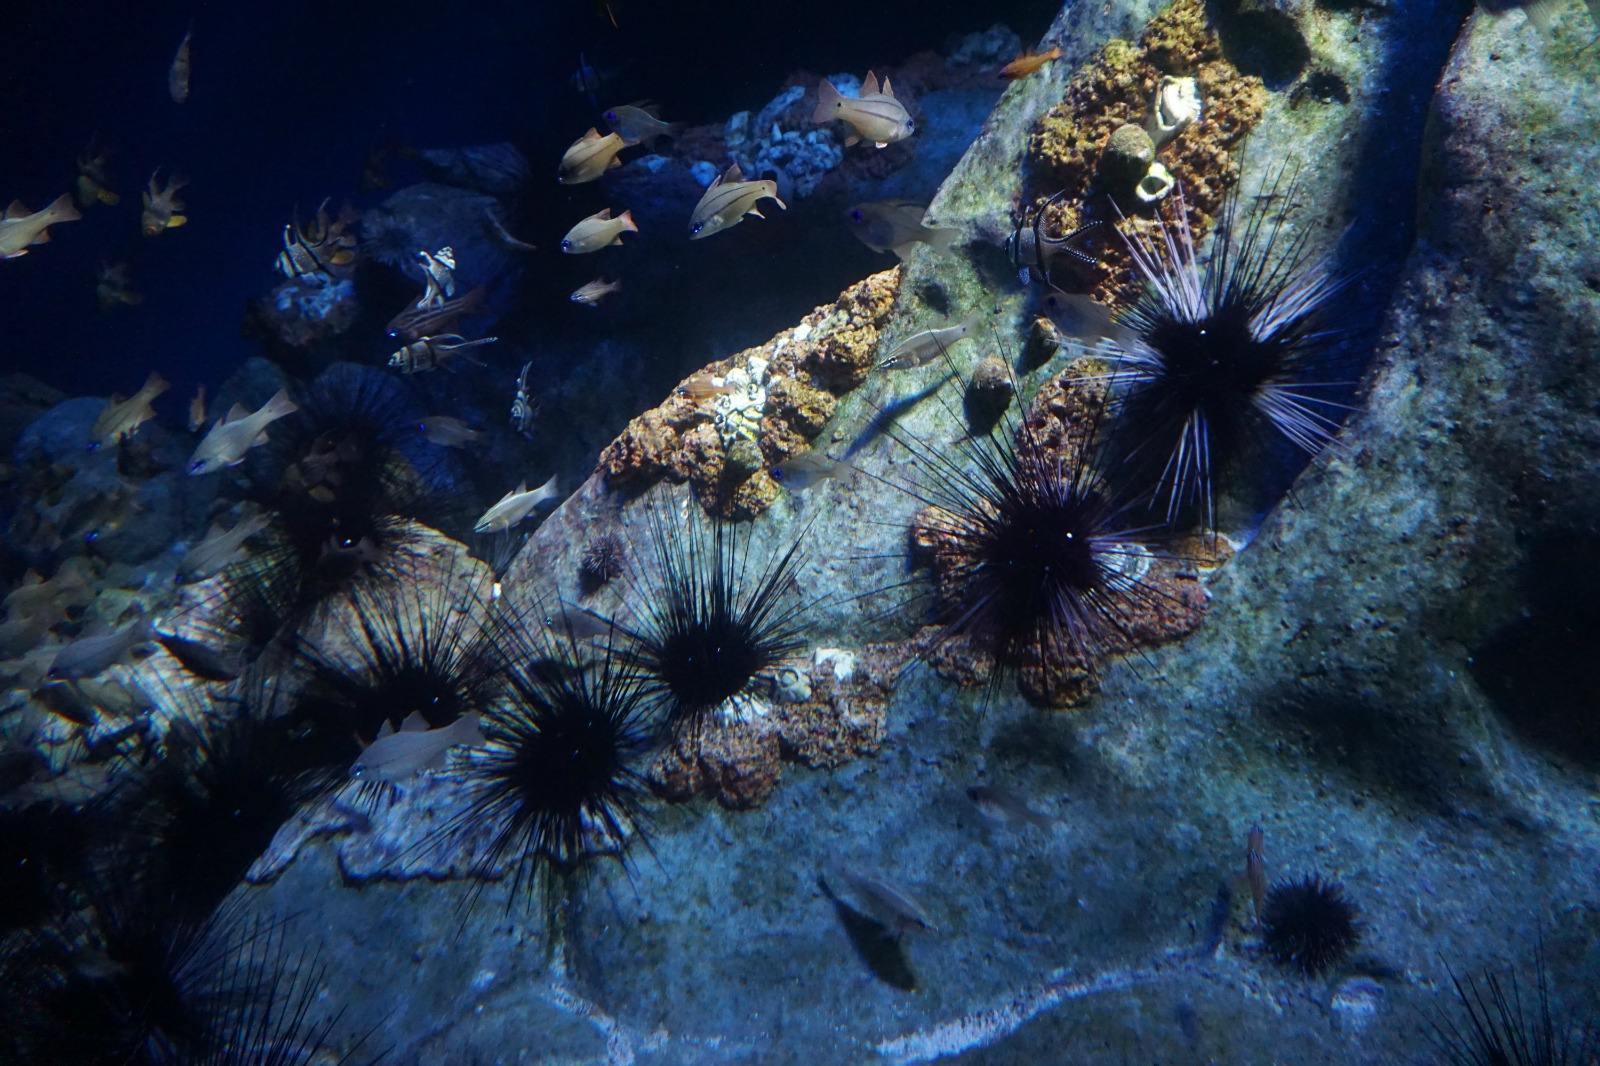urchin: (859, 353, 1201, 714), (1042, 193, 1361, 508), (459, 592, 658, 926), (590, 495, 812, 755), (128, 914, 374, 1051), (319, 566, 517, 730), (1419, 951, 1586, 1055), (1246, 864, 1379, 993), (288, 368, 423, 464)
